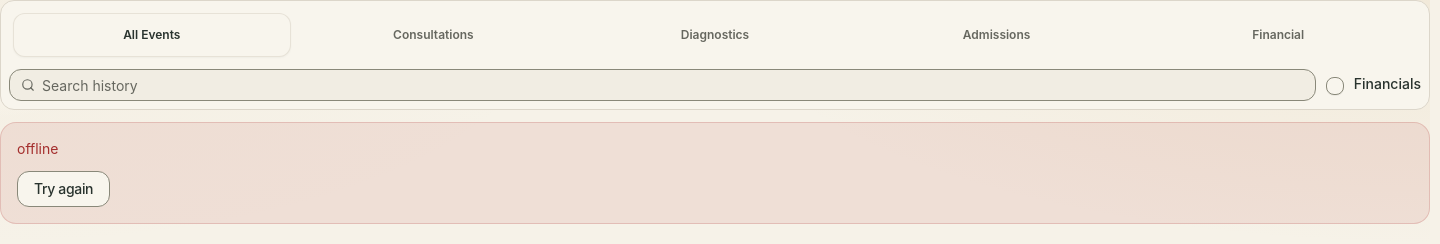
Shared patient history recovery › retries the profile-owned scope and preserves its approval header
Click the button "Try again".
click(64, 189)  # box [17, 171, 110, 207]
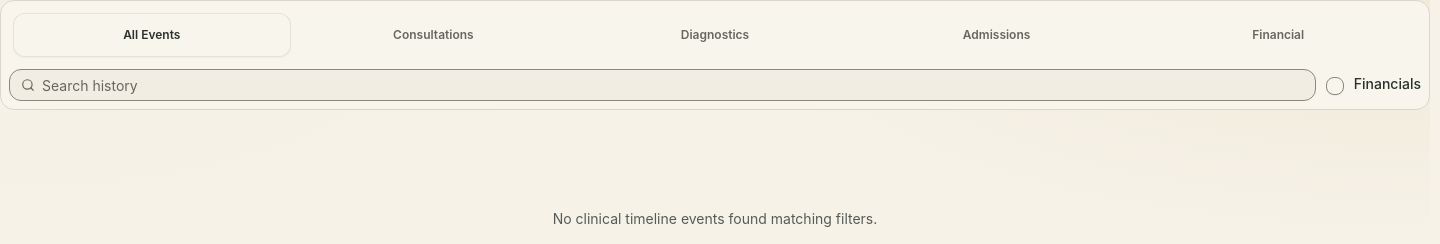
Now the message "offline Try again" is gone
